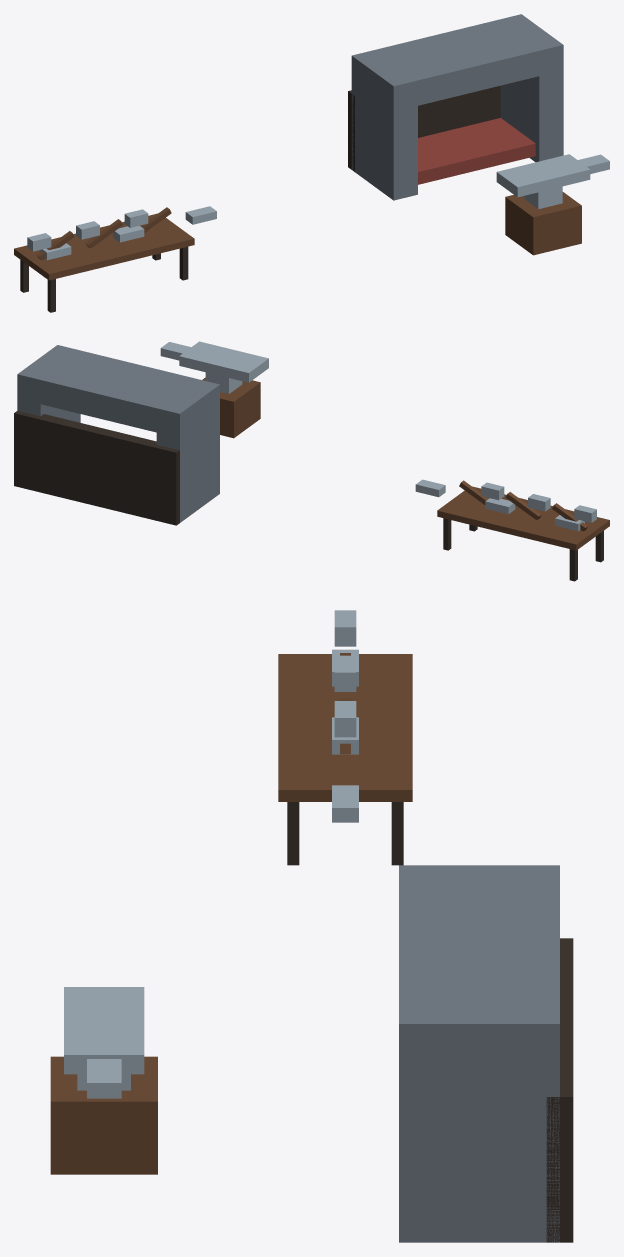
Rendered from forge_workshop.glb.
3 views of the same model, one above another, from view 1: azimuth 30°, elevation 25°; view 2: azimuth 150°, elevation 25°; view 3: azimuth 270°, elevation 25° (orthographic). The views are drawn at different scales.
Parts seen in each view (by area): view 1: forge_workshop; view 2: forge_workshop; view 3: forge_workshop.
Part boxes in pixels (x1,y1,x2,y2): forge_workshop: (14,14,609,312); forge_workshop: (14,341,609,581); forge_workshop: (50,610,573,1242).
Bounding box in the file's own units: 45.1 × 9 × 19.5.
